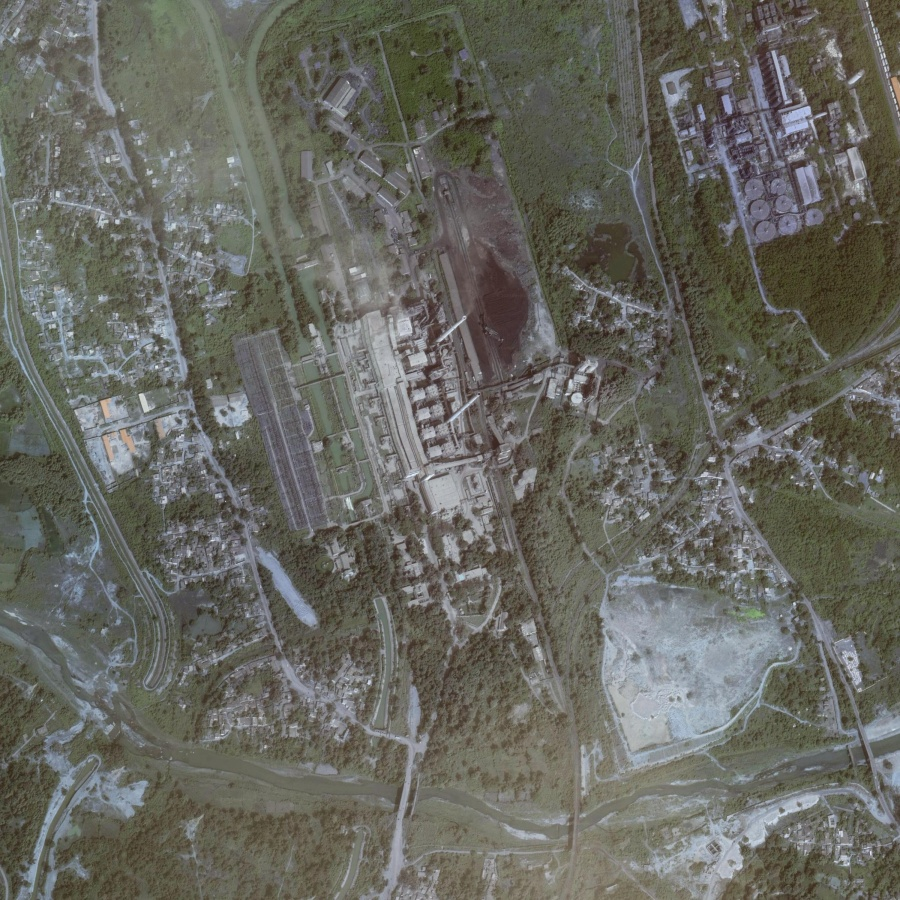PowerPlant: (342, 160, 539, 458)
